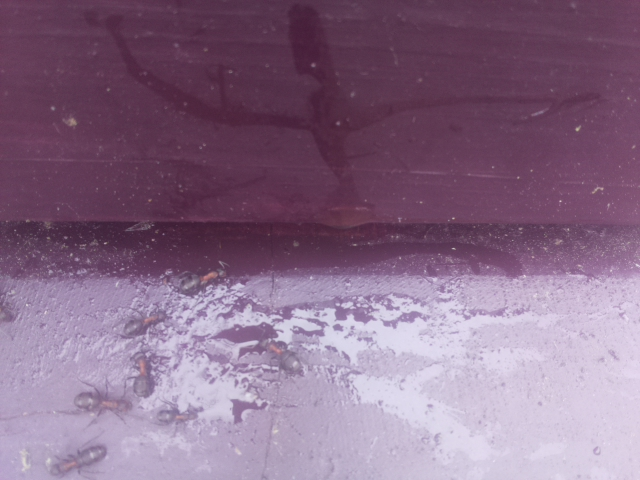ant: (37, 436, 110, 480), (171, 253, 235, 303), (254, 329, 310, 385), (67, 385, 136, 418), (115, 308, 174, 338), (128, 350, 155, 399), (156, 403, 206, 427)
